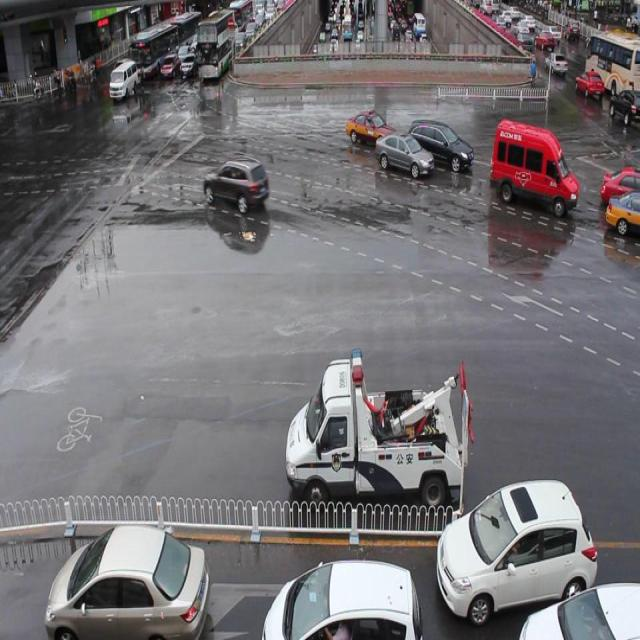bus: (285, 343, 473, 512)
car: (437, 480, 594, 619), (48, 520, 209, 640), (265, 554, 419, 640), (518, 577, 640, 640), (203, 154, 267, 212), (407, 114, 472, 169), (374, 130, 433, 176), (347, 106, 398, 148), (606, 186, 640, 237), (600, 163, 640, 206)
truck: (490, 115, 578, 213)
